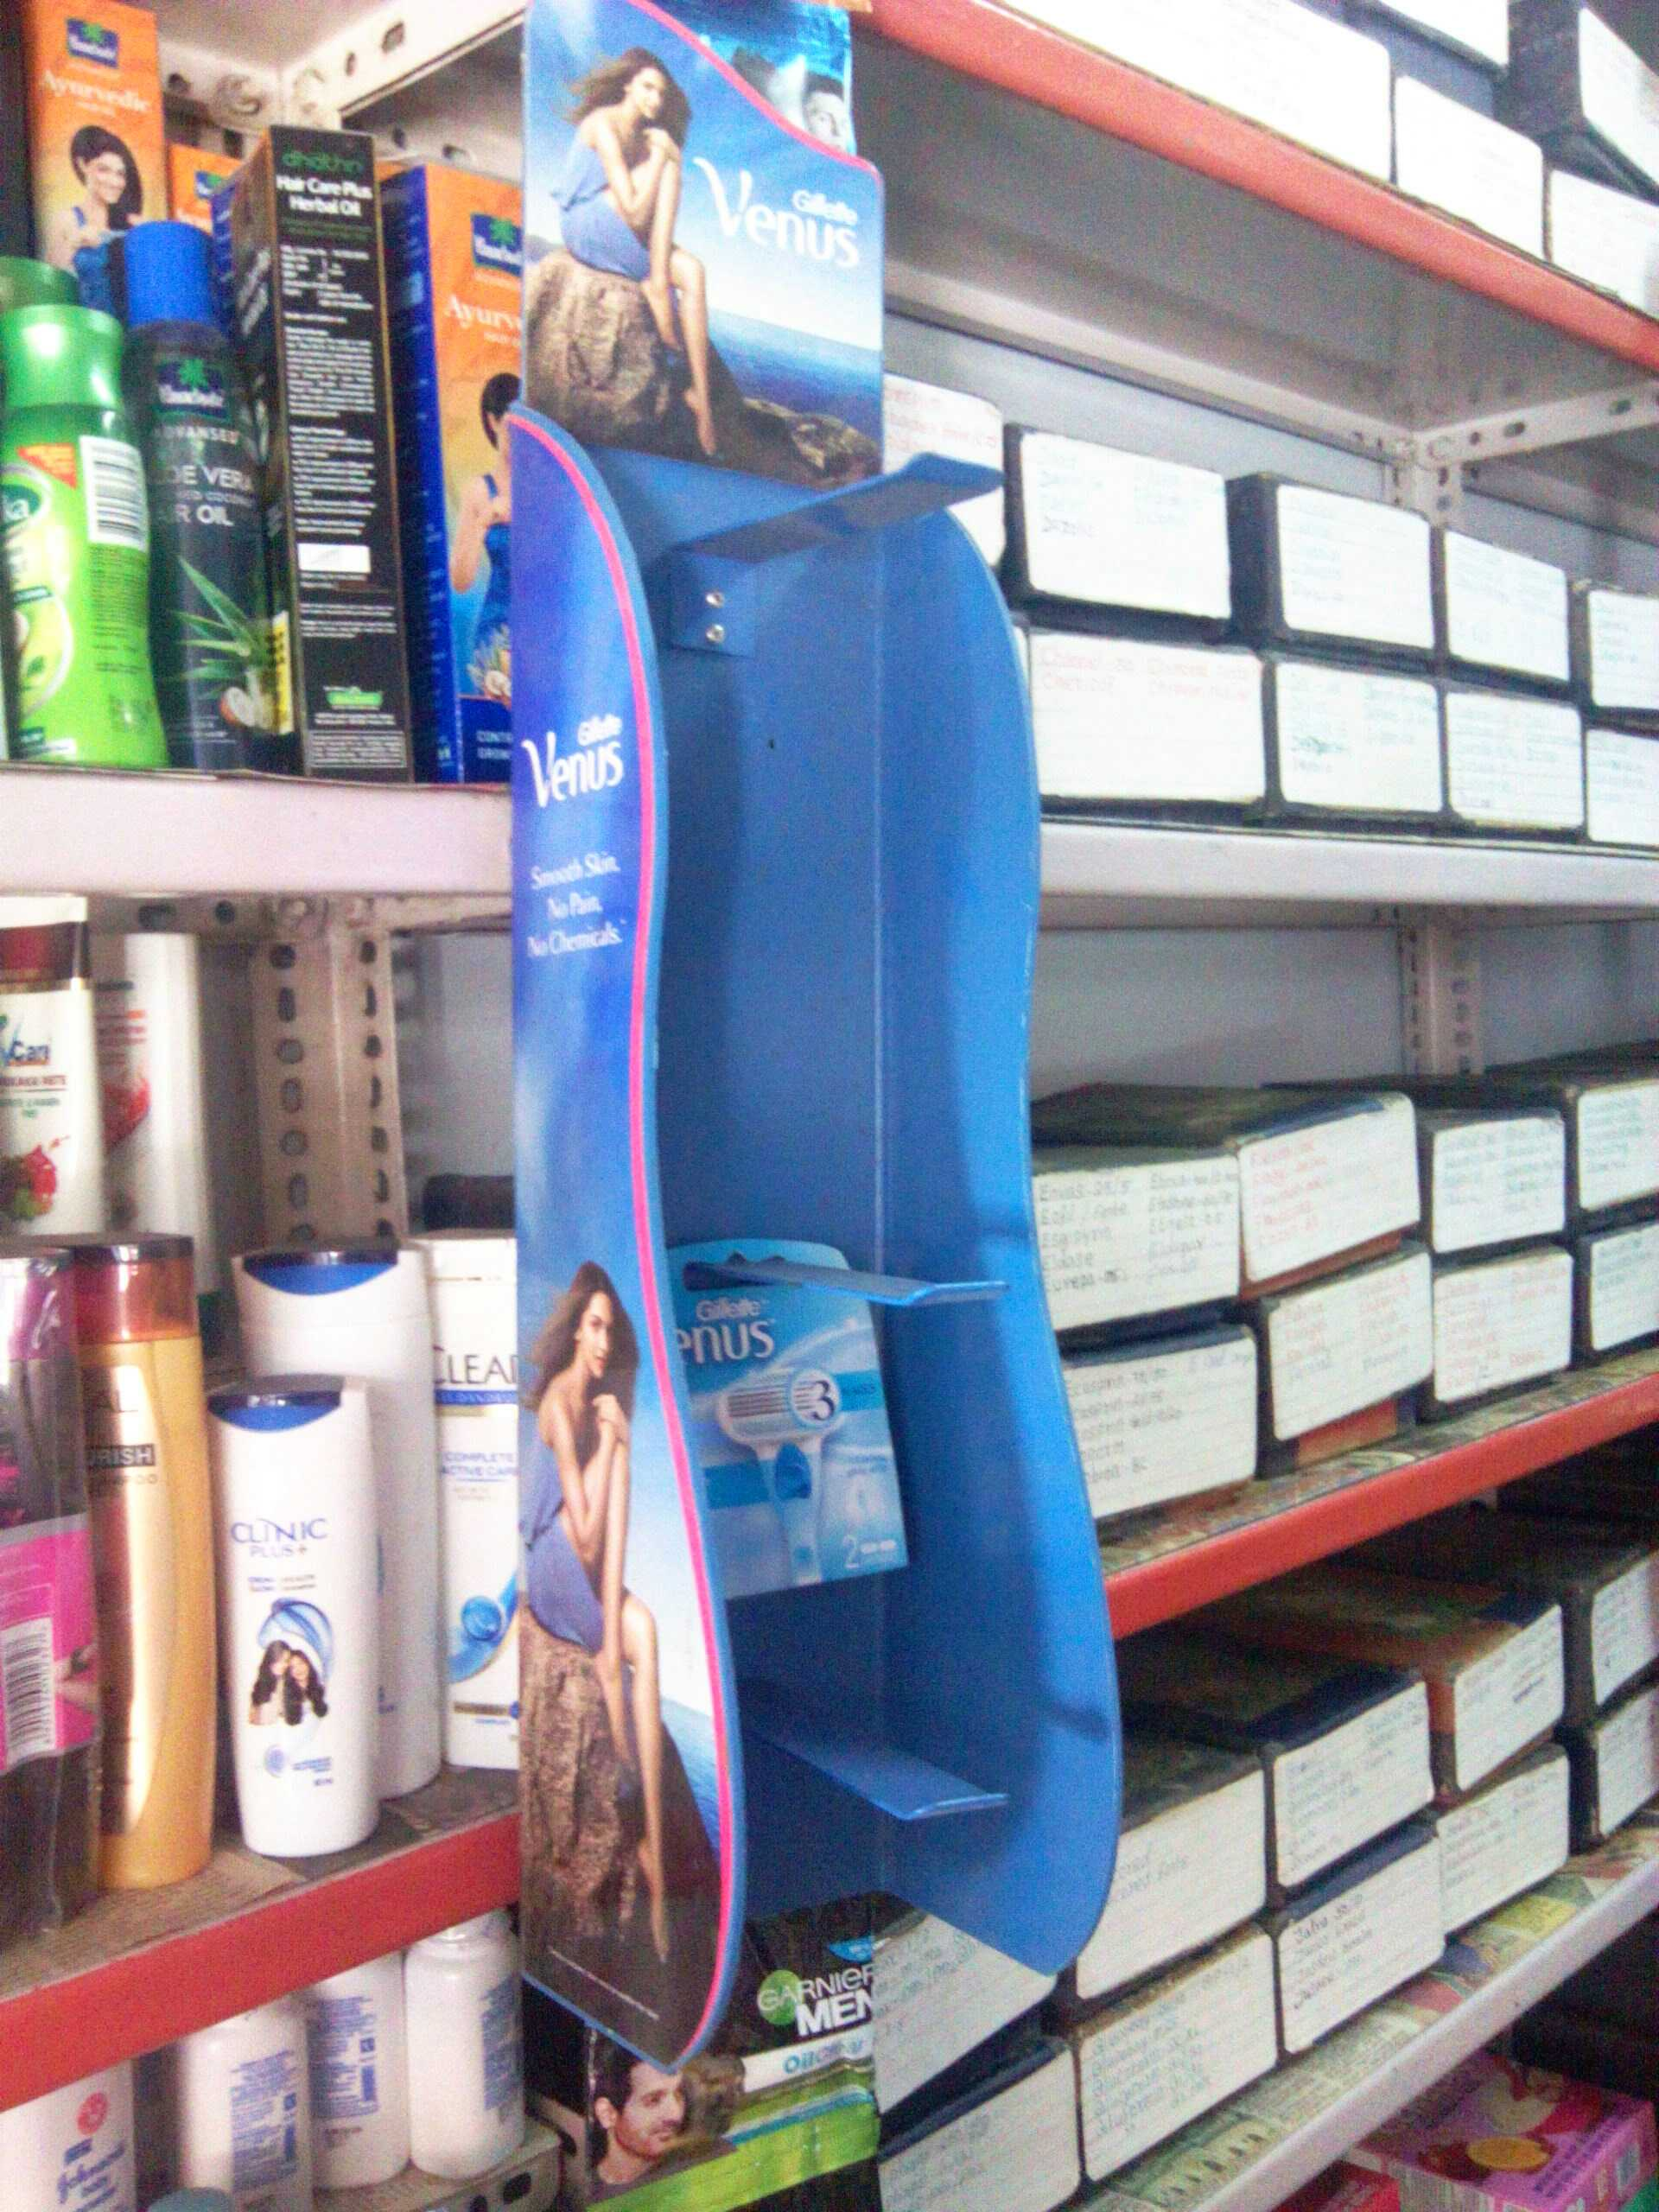venus: (674, 1247, 906, 1625)
